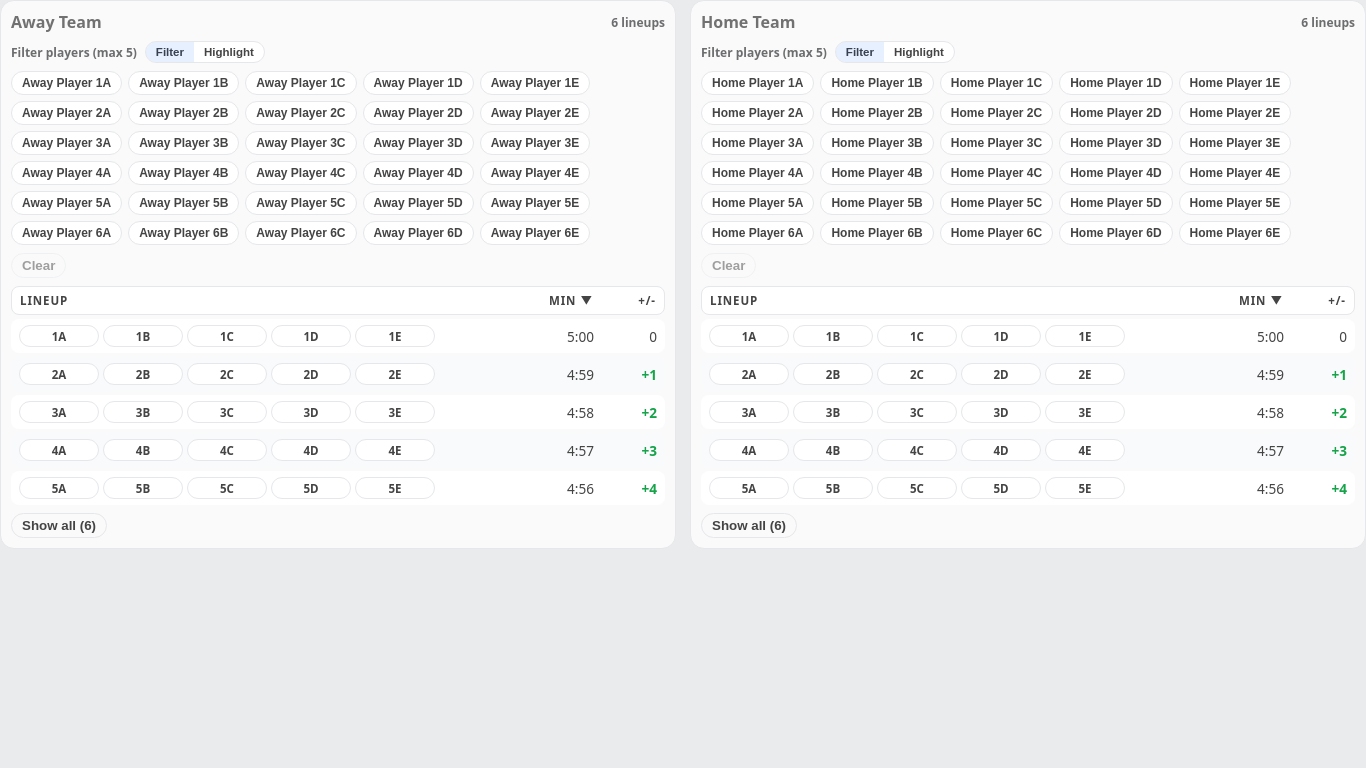
it: Lineups › lets lineup row player pills apply the active filter mode
Click the button named "Away Player 1A" at (59, 336), box [19,325,99,347]
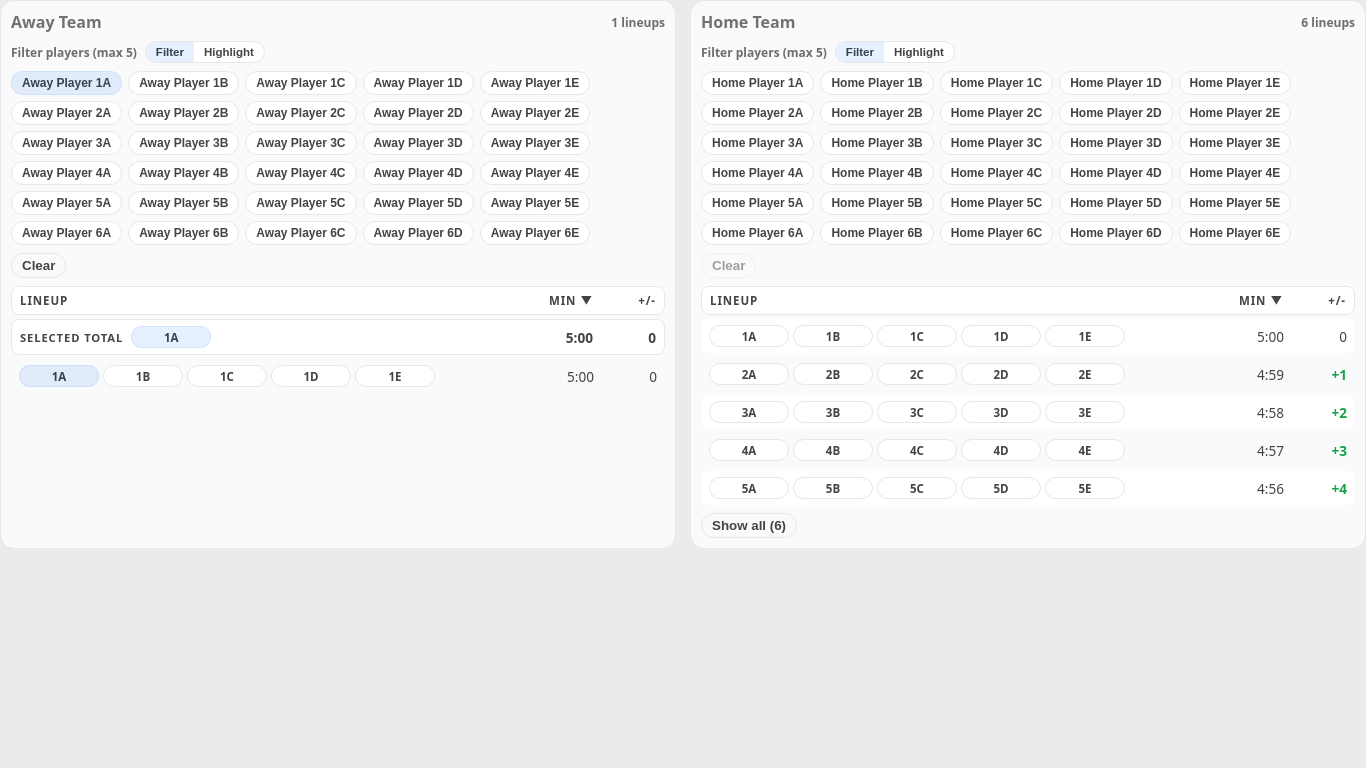
Expected: the number of buttons "Show all (6)" is 1, [701,513,797,538]
Now the text "Selected total" is shown, box [20,330,123,344]
